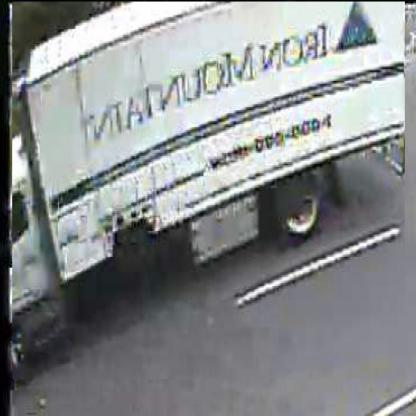truck: (12, 2, 406, 382)
